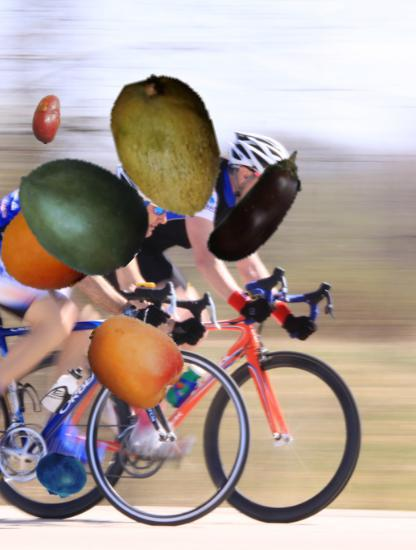Apricot: (0, 195, 103, 298), (83, 311, 184, 412)
Eggplant: (192, 140, 331, 279)
Huckleberry: (35, 450, 88, 503)
Mango: (15, 143, 153, 281)
Papaya: (93, 73, 242, 222)
Potato: (22, 94, 73, 145)
